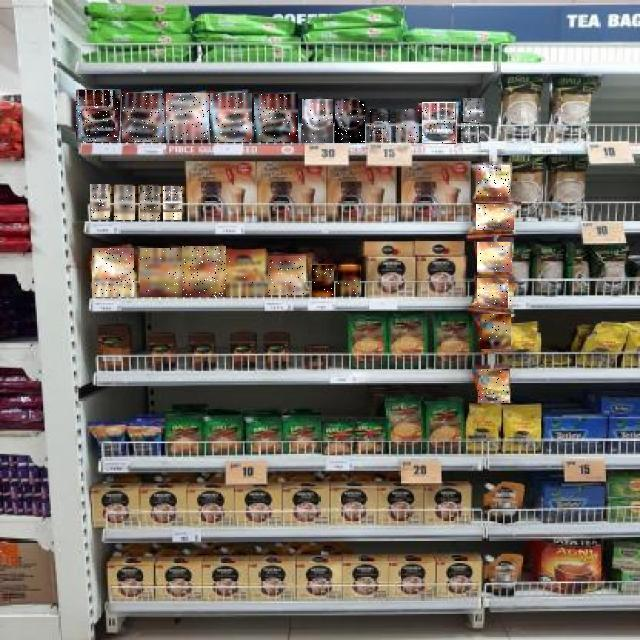Coffee: (77, 90, 121, 142), (182, 246, 226, 297), (254, 95, 298, 143), (166, 94, 209, 142), (122, 93, 164, 142), (210, 93, 252, 142), (140, 248, 182, 297), (92, 248, 134, 297), (226, 250, 268, 296), (269, 256, 307, 295), (422, 102, 456, 144), (302, 99, 333, 143), (335, 99, 365, 143), (476, 166, 510, 200), (478, 369, 510, 403), (480, 314, 511, 349), (477, 242, 512, 272), (478, 278, 512, 308), (477, 205, 515, 231), (396, 109, 419, 142), (90, 185, 110, 221), (114, 186, 135, 220), (312, 265, 334, 297), (140, 186, 160, 220), (370, 109, 390, 142), (338, 266, 360, 296), (163, 186, 182, 220), (463, 98, 485, 122), (462, 123, 484, 142)
